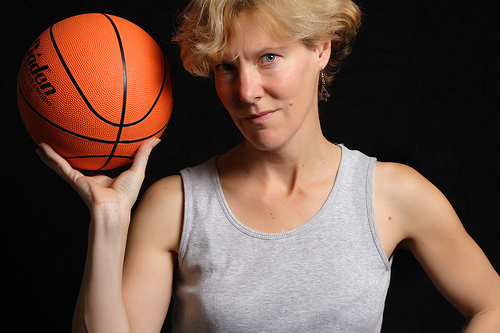basketball: (17, 13, 174, 171)
